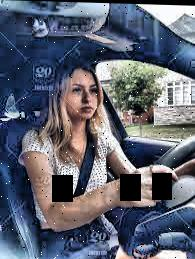seatbelt: (73, 107, 98, 197)
